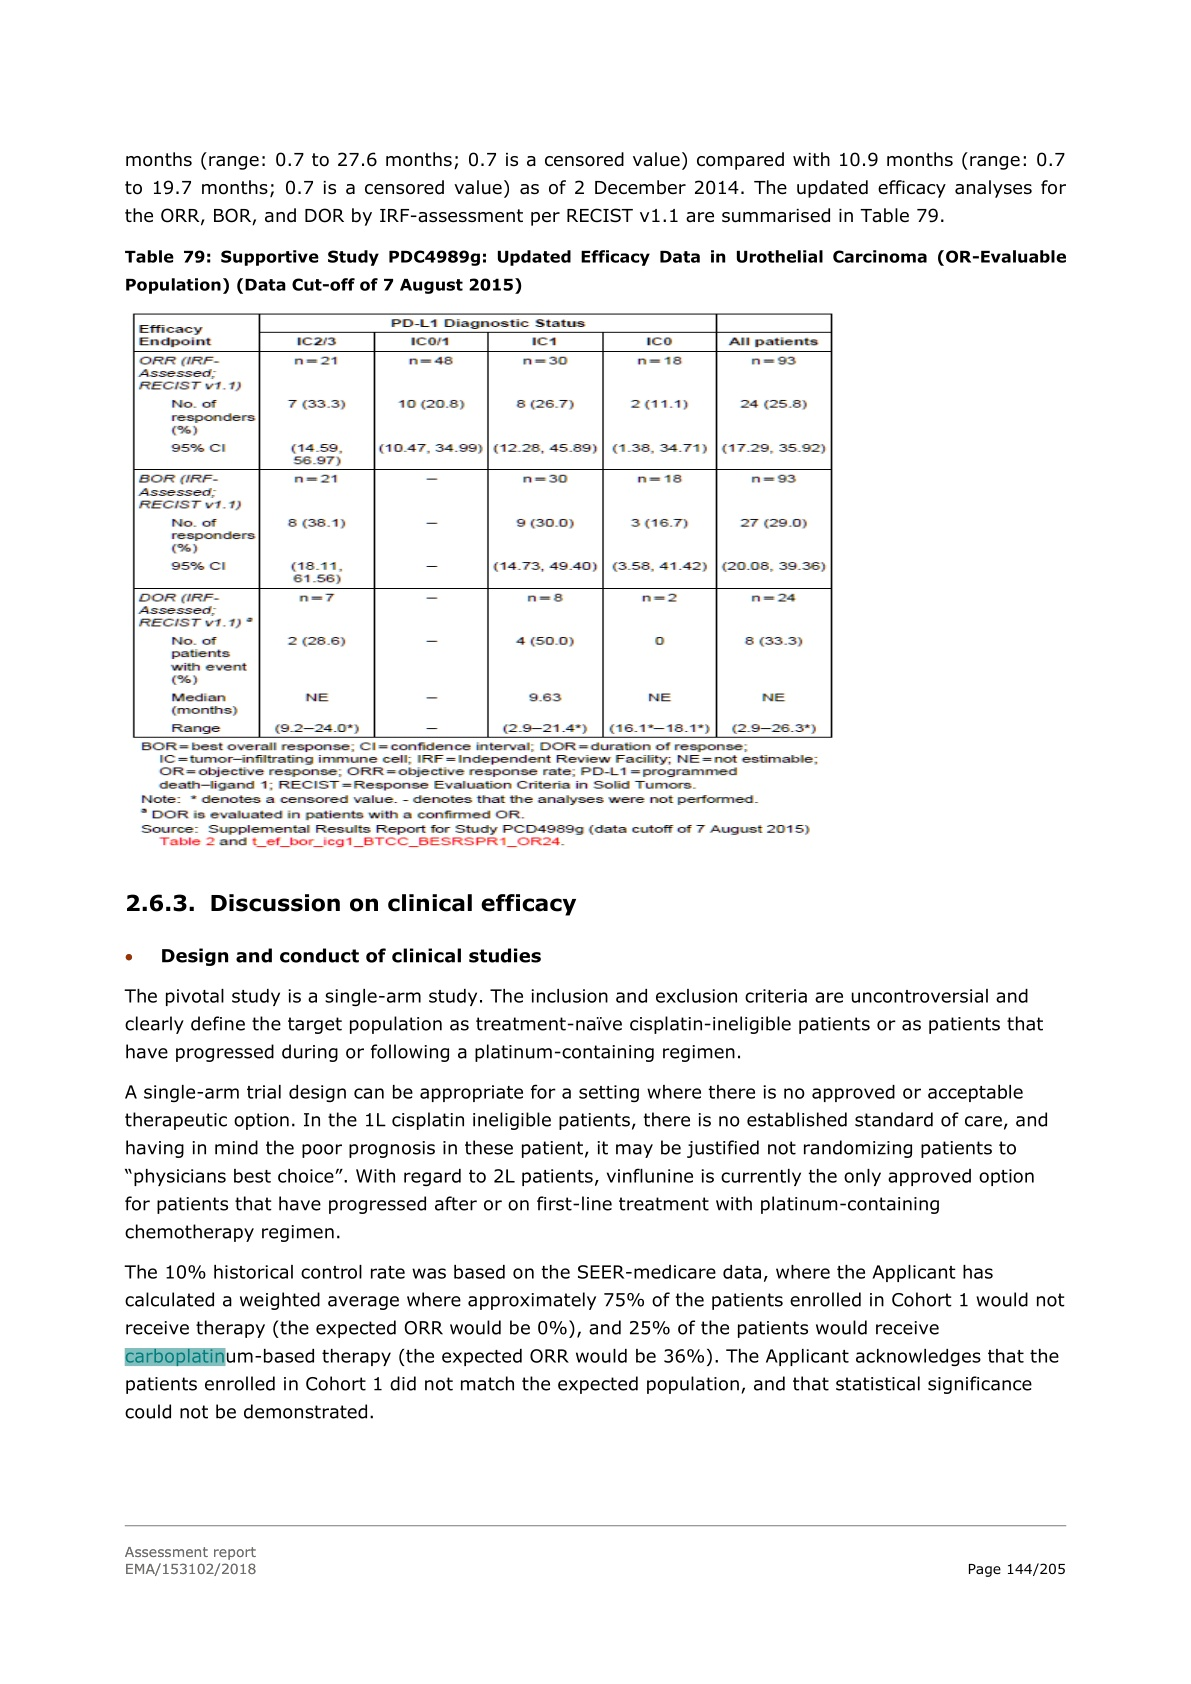merged_cells: (131, 312, 833, 740)
